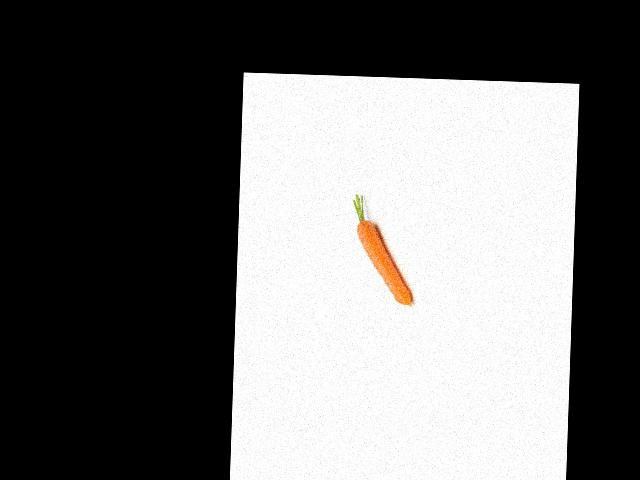carrot: (353, 217, 414, 308)
